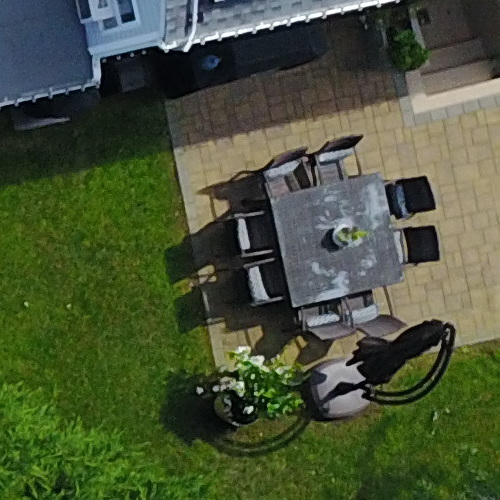flower pot: (202, 341, 302, 440), (323, 215, 366, 252)
watering can: (193, 49, 225, 80)
